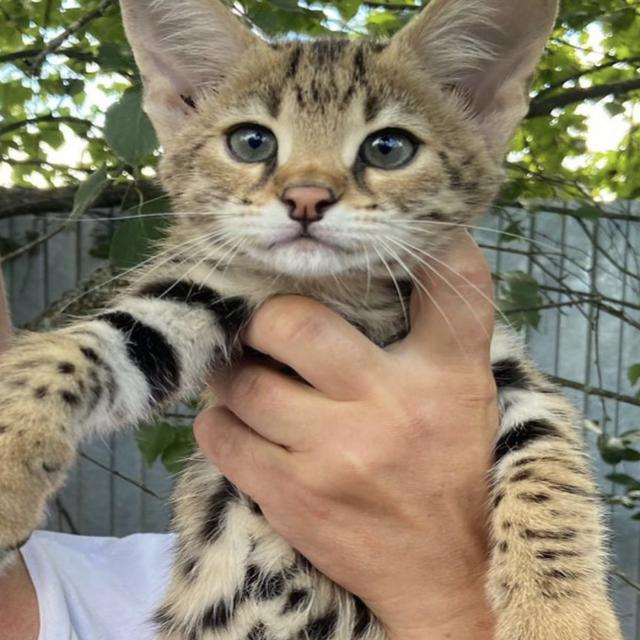Savannah: (0, 0, 631, 640)
